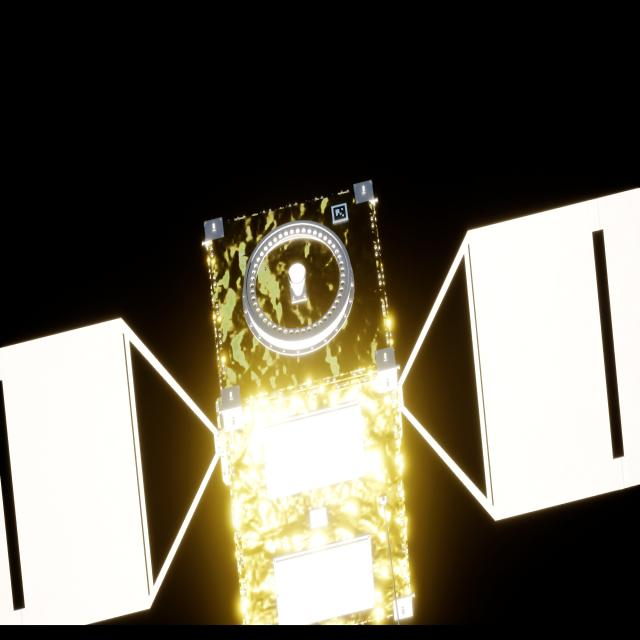medium_debris: (0, 182, 640, 629)
